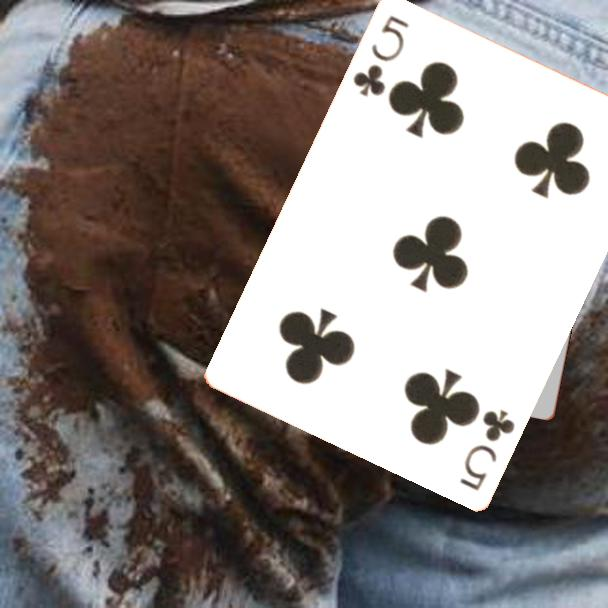c05: (349, 11, 412, 99), (456, 405, 518, 493)
